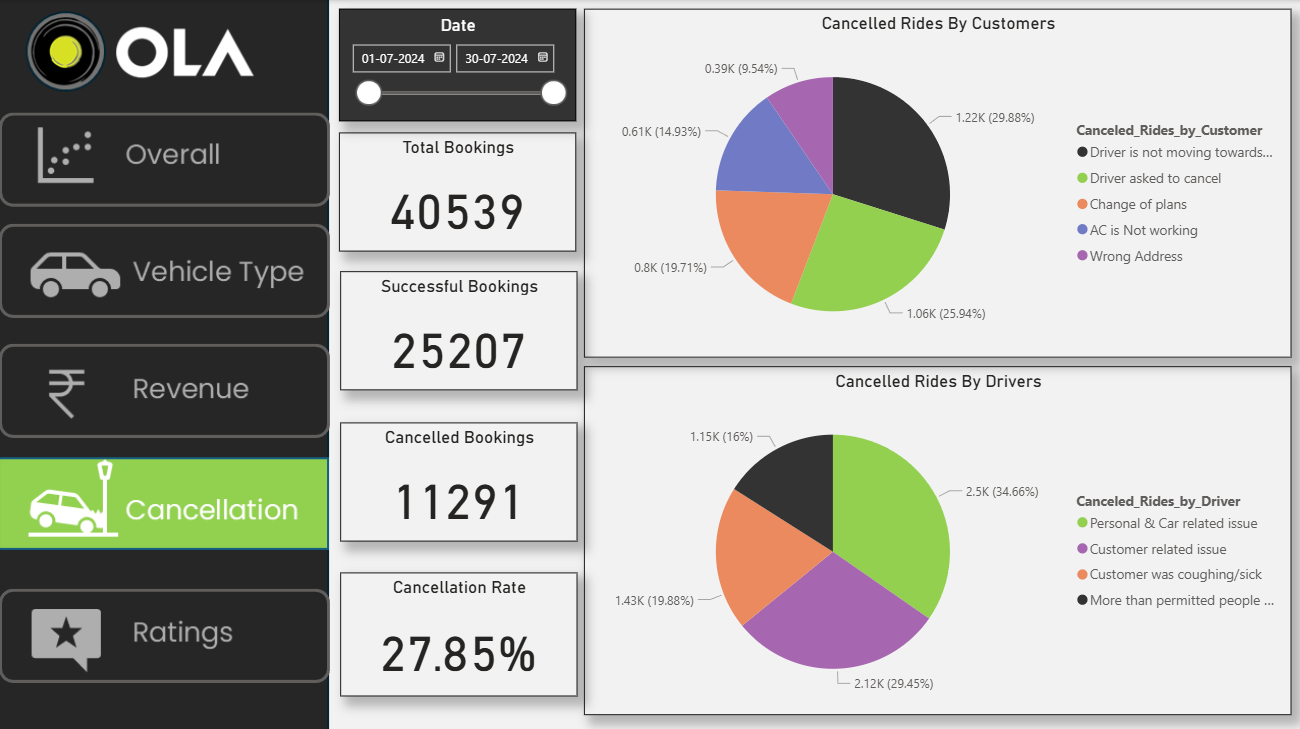

This screenshot's page, from the dashboard's own definition file:
{"tool":"powerbi","page":{"name":"Cancellation","canvas":[1280,720],"ordinal":3},"visuals":[{"type":"actionButton","box":[0,220,325,92.5],"z":0},{"type":"actionButton","box":[0,110,325,92.5],"z":1000},{"type":"actionButton","box":[0,337.5,325,92.5],"z":2000},{"type":"actionButton","box":[0,577.5,325,92.5],"z":3000},{"type":"pieChart","title":"Cancelled Rides By Drivers","fields":{"Category":["Bookings.Canceled_Rides_by_Driver"],"Y":["CountNonNull(Bookings.Canceled_Rides_by_Driver)"]},"box":[574.2,359.5,694.5,342.3],"z":4000},{"type":"pieChart","title":"Cancelled Rides By Customers","fields":{"Category":["Bookings.Canceled_Rides_by_Customer"],"Y":["CountNonNull(Bookings.Canceled_Rides_by_Customer)"]},"box":[574.2,8.6,694.5,342.3],"z":5000},{"type":"slicer","title":"Date","fields":{"Values":["Bookings.Date"]},"box":[333.4,8.7,232.7,110.7],"z":6000},{"type":"card","title":"Total Bookings","fields":{"Values":["Count(Bookings.Booking_ID)"]},"box":[333.4,130.6,232.7,117],"z":7000},{"type":"card","title":"Successful Bookings","fields":{"Values":["Count(Bookings.Booking_ID)"]},"box":[334.7,266.3,232.7,117],"z":8000},{"type":"card","title":"Cancelled Bookings","fields":{"Values":["Count(Bookings.Booking_ID)"]},"box":[334.7,414.3,232.7,117],"z":9000},{"type":"card","title":"Cancellation Rate","fields":{"Values":["Measures Table.Cancellation Rate"]},"box":[334.7,562.4,232.7,121.9],"z":10000}]}

Visuals, with their boxes in screenshot pixels (x1, y1, x2, y2), scaled from the page's 1280x720 canvas onto the 1300x729 screenshot:
actionButton: l=0, t=223, r=330, b=316
actionButton: l=0, t=111, r=330, b=205
actionButton: l=0, t=342, r=330, b=435
actionButton: l=0, t=585, r=330, b=678
"Cancelled Rides By Drivers" pieChart: l=583, t=364, r=1289, b=711
"Cancelled Rides By Customers" pieChart: l=583, t=9, r=1289, b=355
"Date" slicer: l=339, t=9, r=575, b=121
"Total Bookings" card: l=339, t=132, r=575, b=251
"Successful Bookings" card: l=340, t=270, r=576, b=388
"Cancelled Bookings" card: l=340, t=419, r=576, b=538
"Cancellation Rate" card: l=340, t=569, r=576, b=693
